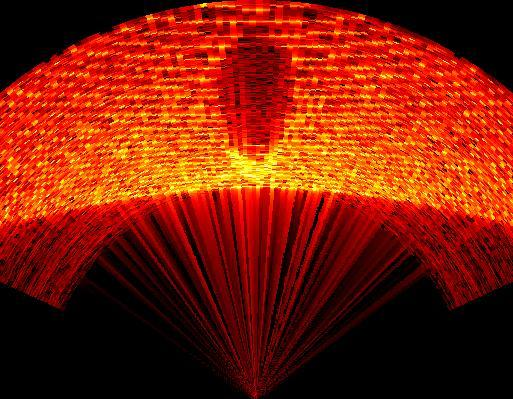box_crate: (214, 31, 295, 182)
